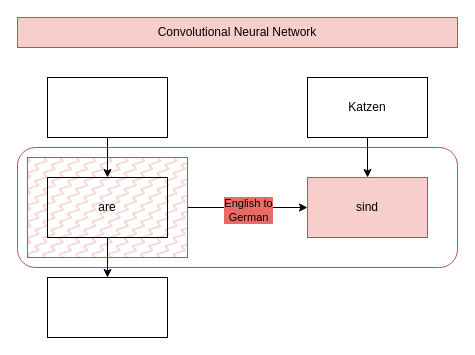
The diagram is 475 pixels wide and 355 high, and some of its shapes have lost their labels. The shapes that lost their labels are listed below. From the top down, each one's box as (x1, y1, x2, y2) in pixels, then its label:
(46, 76, 168, 138): Cats
(46, 276, 168, 338): cool
